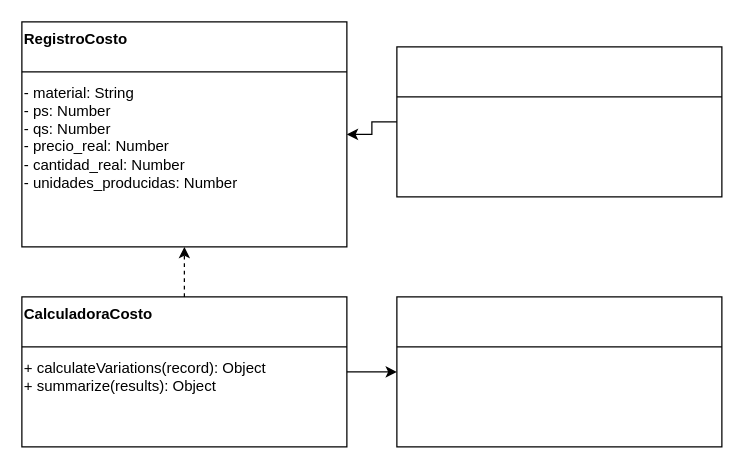
Some shapes in this 744 by 469 pixel diagram are drawn without their labels. The box of each missing label's shape, as (x1, y1, x2, y2) in pixels:
ExcelParser + parse(filePath): Array + validateColumns(data): Boolean: (396, 46, 722, 197)
GeneradorReporte + generateReport(data): File + prepareCharts(data): Object: (396, 296, 722, 447)
